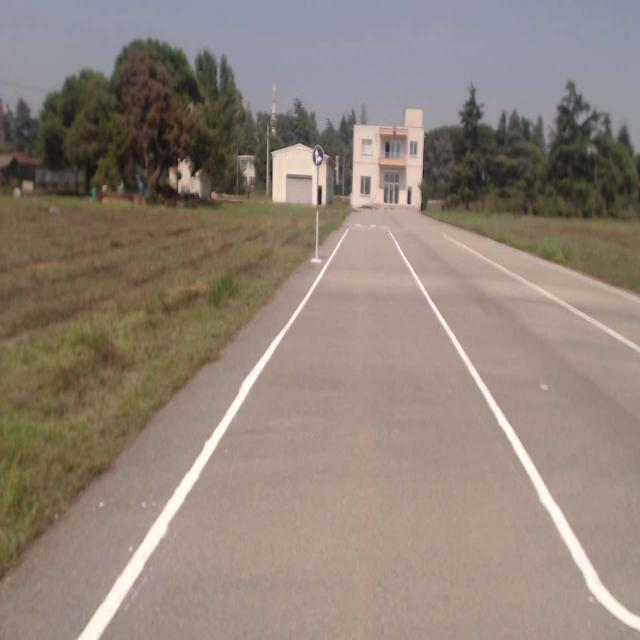ilerisag: (312, 142, 326, 168)
